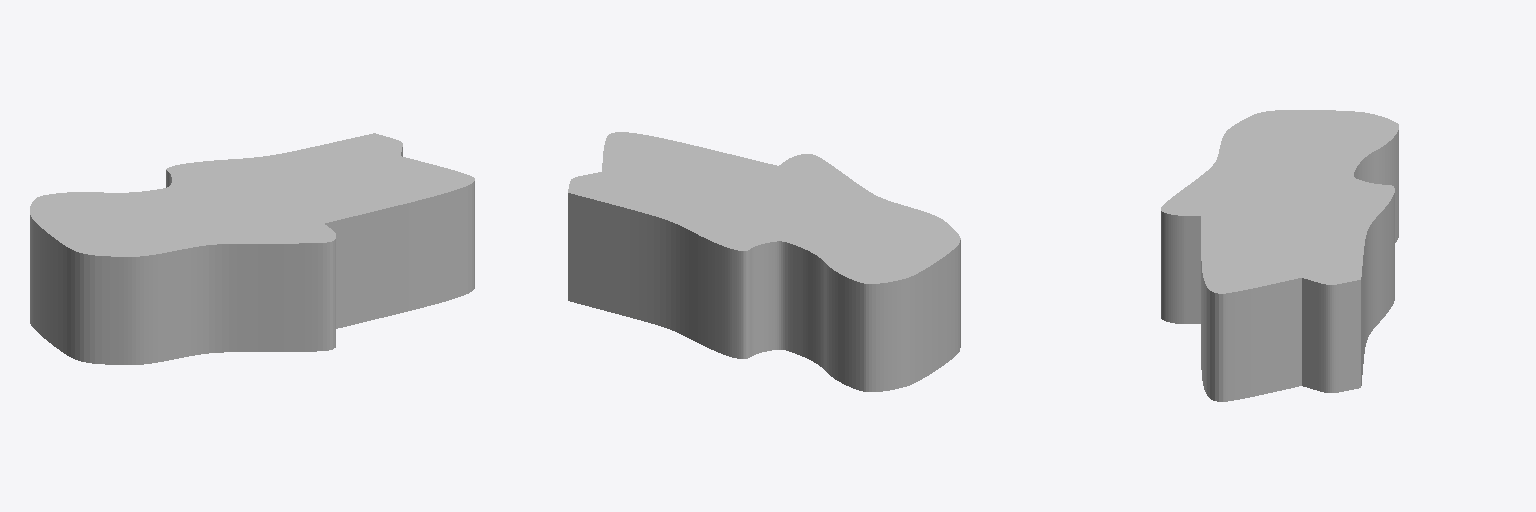
The model's file is Africa_03.obj.
3 views of the same model, side by side, from view 1: azimuth 30°, elevation 25°; view 2: azimuth 150°, elevation 25°; view 3: azimuth 270°, elevation 25° (orthographic).
Parts seen in each view (by area): view 1: Africa_03_path4224; view 2: Africa_03_path4224; view 3: Africa_03_path4224.
Boxes of the visible parts, box(x1,y1,x2,y2) form: Africa_03_path4224: box(30, 133, 474, 364); Africa_03_path4224: box(568, 132, 960, 391); Africa_03_path4224: box(1161, 110, 1398, 401).
Bounding box in the file's own units: 0.3641 × 0.1 × 0.1998.